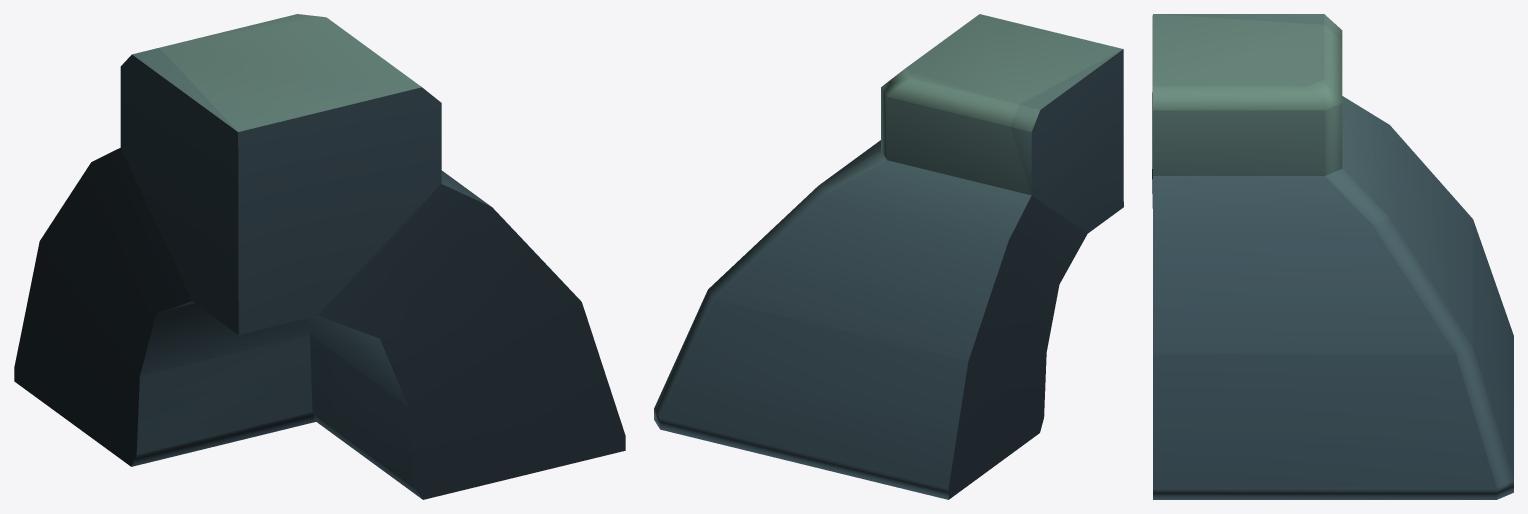
The model's file is wall_corner_conc_top.fbx.
The picture shows the model from 3 angles, left to right: view 1: azimuth 30°, elevation 25°; view 2: azimuth 150°, elevation 25°; view 3: azimuth 270°, elevation 25°; orthographic projection. The views are drawn at different scales.
Parts seen in each view (by area): view 1: wall_corner_conc_top; view 2: wall_corner_conc_top; view 3: wall_corner_conc_top.
Boxes of the visible parts, x1,y1,x2,y2 form: wall_corner_conc_top: [14, 14, 625, 499]; wall_corner_conc_top: [654, 14, 1123, 499]; wall_corner_conc_top: [1152, 14, 1513, 499].
Size of the model in its own units: 200 by 204 by 200.
